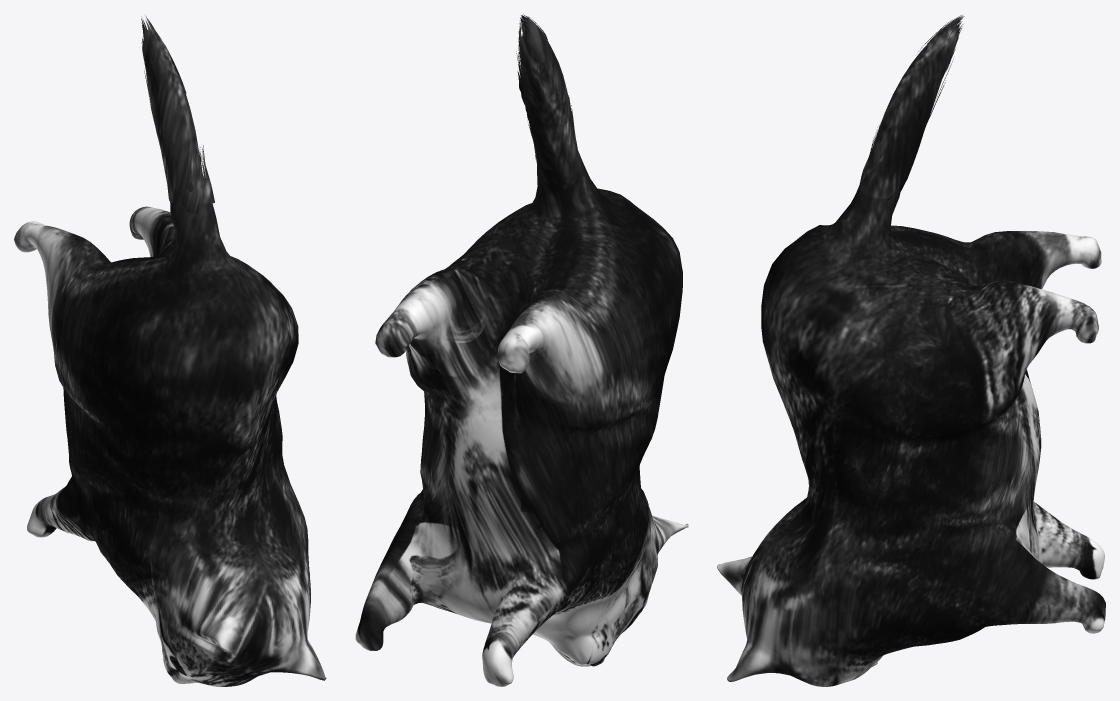
File: Oiia Cat.glb
3 renders of one model, left to right at view 1: azimuth 30°, elevation 25°; view 2: azimuth 150°, elevation 25°; view 3: azimuth 270°, elevation 25°, orthographic. The views are drawn at different scales.
Visible parts, largest first — view 1: Muchkin1; view 2: Muchkin1; view 3: Muchkin1.
Part boxes in pixels (x1,y1,x2,y2): Muchkin1: [14, 15, 326, 686]; Muchkin1: [355, 14, 688, 686]; Muchkin1: [717, 15, 1105, 686].
Bounding box in the file's own units: 0.2392 × 0.7242 × 0.3866.
Materials: 1 (1 with a texture image).
